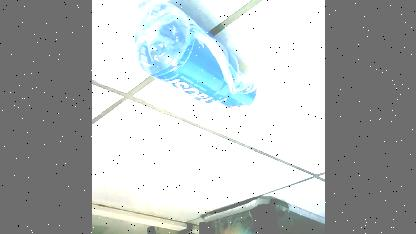Plastic Bottle: (125, 0, 285, 123)
